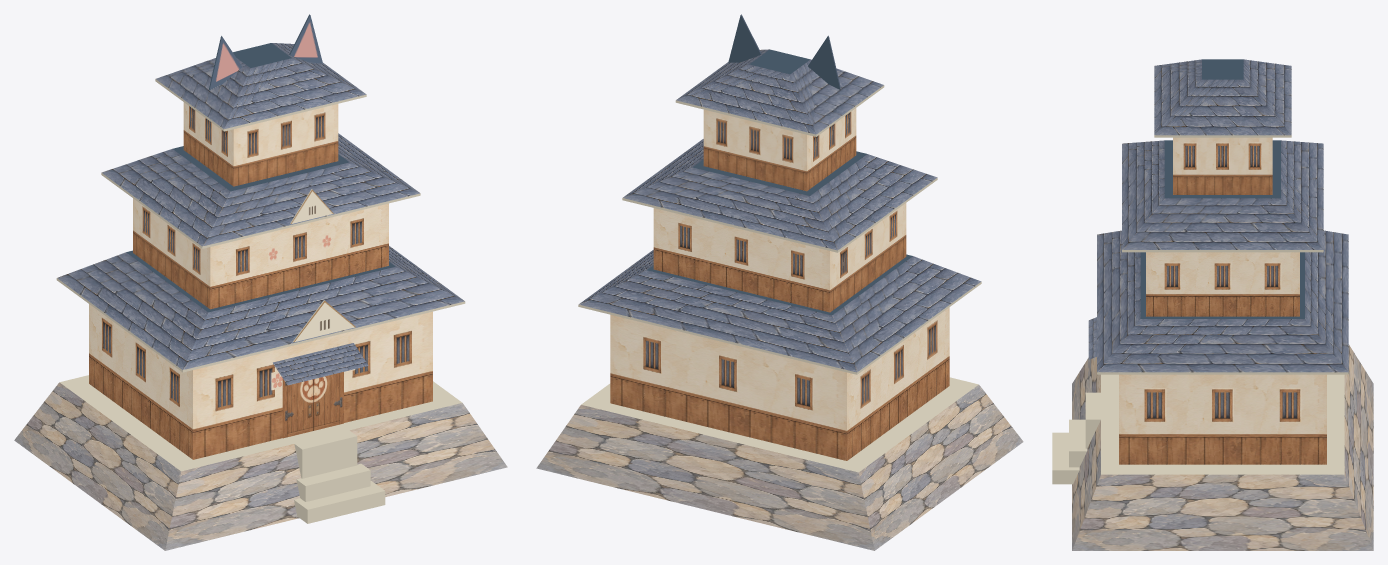
The model's file is nyanisyarud-city-castle.glb.
3 renders of one model, left to right at view 1: azimuth 30°, elevation 25°; view 2: azimuth 150°, elevation 25°; view 3: azimuth 270°, elevation 25°, orthographic.
Parts seen in each view (by area): view 1: Neko_Castle_Japanese_Rich; view 2: Neko_Castle_Japanese_Rich; view 3: Neko_Castle_Japanese_Rich.
Boxes of the visible parts, bbox=[...] form: Neko_Castle_Japanese_Rich: bbox=[14, 14, 507, 550]; Neko_Castle_Japanese_Rich: bbox=[536, 14, 1023, 550]; Neko_Castle_Japanese_Rich: bbox=[1052, 59, 1373, 550].
Bounding box in the file's own units: 3.8 × 4.58 × 3.09.
Materials: 1 (1 with a texture image).
